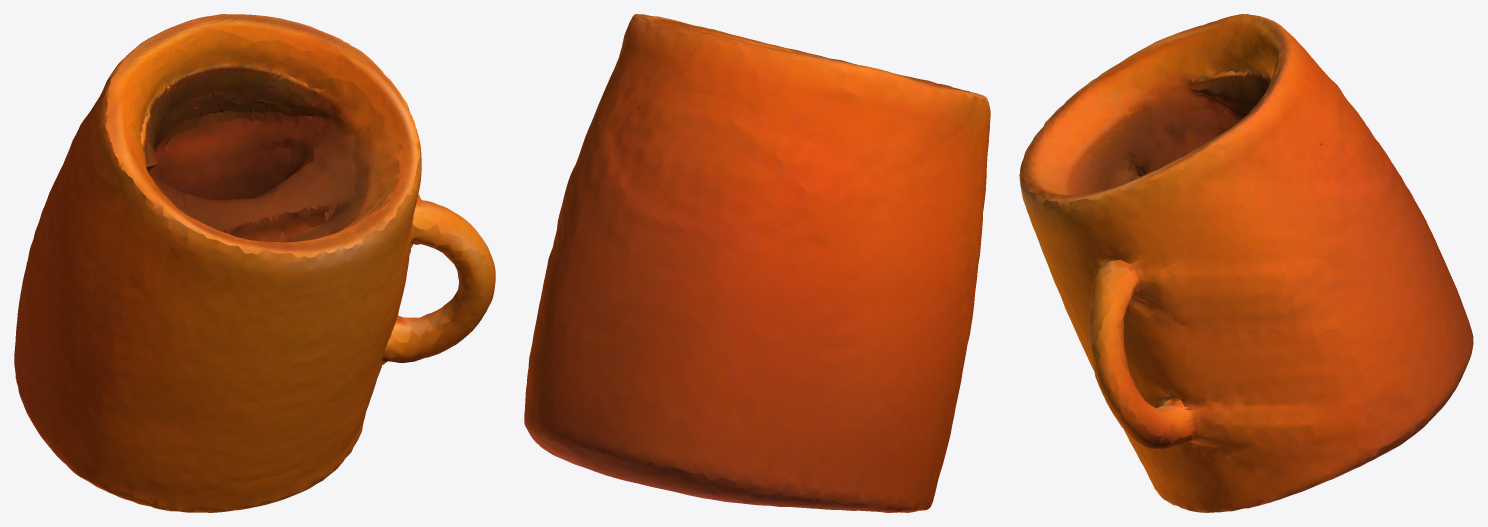
The model's file is mug-sf3d.glb.
3 views of the same model, side by side, from view 1: azimuth 30°, elevation 25°; view 2: azimuth 150°, elevation 25°; view 3: azimuth 270°, elevation 25° (orthographic). The views are drawn at different scales.
Parts seen in each view (by area): view 1: world; view 2: world; view 3: world.
Boxes of the visible parts, bbox=[...] form: world: bbox=[14, 14, 495, 512]; world: bbox=[524, 14, 990, 512]; world: bbox=[1019, 14, 1473, 512].
Size of the model in its own units: 0.8448 by 0.9404 by 0.9073.
Materials: 1 (1 with a texture image).
